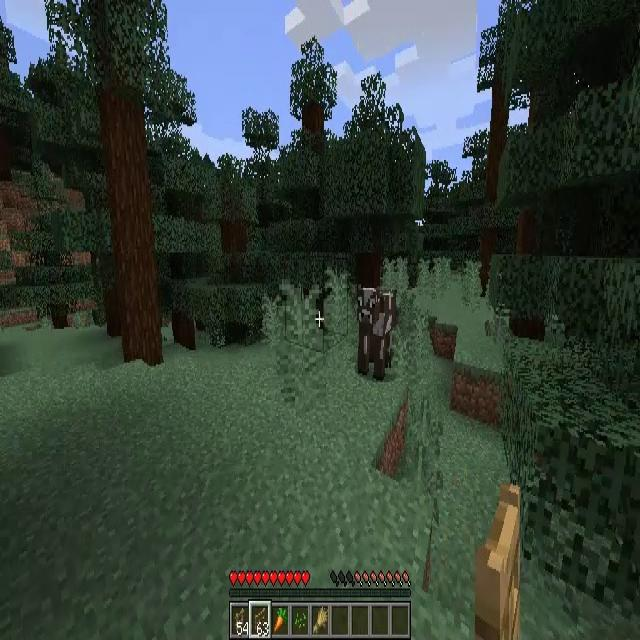cow: (359, 287, 394, 380)
